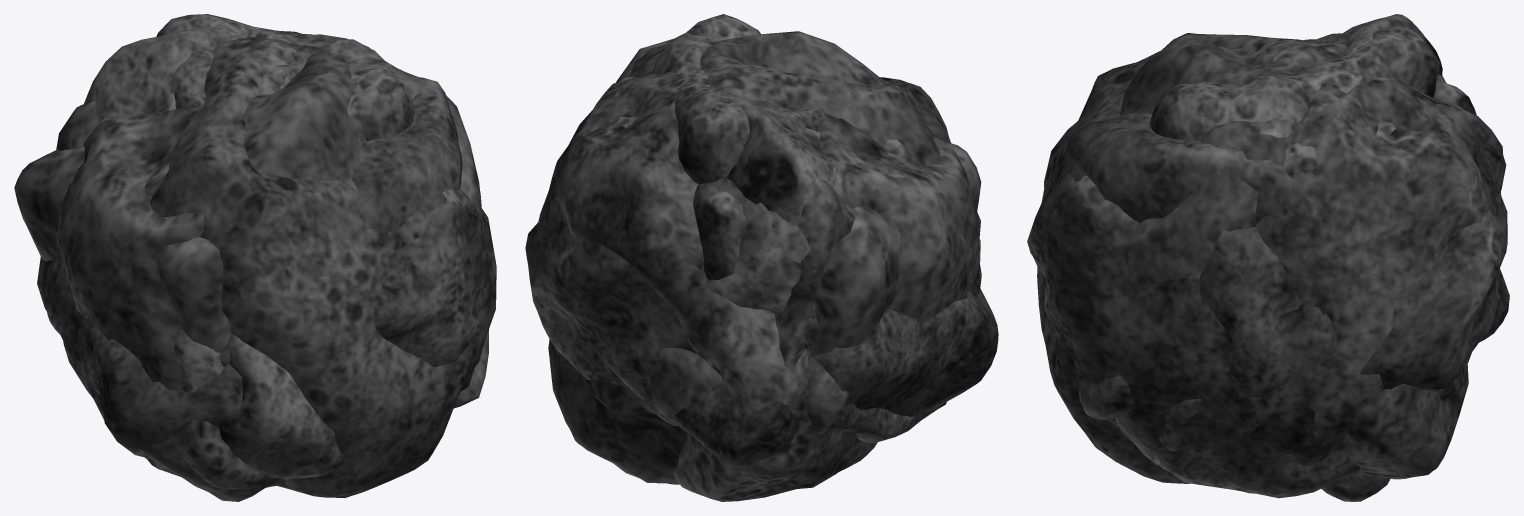
Rendered from asteroids.glb.
3 renders of one model, left to right at view 1: azimuth 30°, elevation 25°; view 2: azimuth 150°, elevation 25°; view 3: azimuth 270°, elevation 25°, orthographic. The views are drawn at different scales.
Parts seen in each view (by area): view 1: Asteroid_no_3_Material #3_0, Asteroid_no_2_Material #3_0, Asteroid_no_8_Material #3_0, Asteroid_no_6_Material #3_0, Asteroid_no_7_Material #3_0, Asteroid_no_10_Material #3_0, Asteroid_no_5_Material #3_0, Asteroid_no_9_Material #3_0, Asteroid_no_4_Material #3_0, Asteroid_no_1_Material #3_0; view 2: Asteroid_no_3_Material #3_0, Asteroid_no_2_Material #3_0, Asteroid_no_8_Material #3_0, Asteroid_no_6_Material #3_0, Asteroid_no_7_Material #3_0, Asteroid_no_4_Material #3_0, Asteroid_no_9_Material #3_0, Asteroid_no_10_Material #3_0, Asteroid_no_1_Material #3_0, Asteroid_no_5_Material #3_0; view 3: Asteroid_no_3_Material #3_0, Asteroid_no_6_Material #3_0, Asteroid_no_2_Material #3_0, Asteroid_no_4_Material #3_0, Asteroid_no_5_Material #3_0, Asteroid_no_9_Material #3_0, Asteroid_no_7_Material #3_0, Asteroid_no_1_Material #3_0, Asteroid_no_8_Material #3_0.
Part boxes in pixels (<box>): Asteroid_no_3_Material #3_0: <box>63,30,472,497</box>; Asteroid_no_2_Material #3_0: <box>57,45,484,390</box>; Asteroid_no_8_Material #3_0: <box>37,47,311,501</box>; Asteroid_no_6_Material #3_0: <box>373,189,496,391</box>; Asteroid_no_7_Material #3_0: <box>56,101,488,480</box>; Asteroid_no_10_Material #3_0: <box>14,146,230,352</box>; Asteroid_no_5_Material #3_0: <box>352,77,462,233</box>; Asteroid_no_9_Material #3_0: <box>156,14,413,141</box>; Asteroid_no_4_Material #3_0: <box>47,26,481,333</box>; Asteroid_no_1_Material #3_0: <box>87,164,285,489</box>; Asteroid_no_3_Material #3_0: <box>538,62,950,501</box>; Asteroid_no_2_Material #3_0: <box>548,31,981,483</box>; Asteroid_no_8_Material #3_0: <box>643,55,998,416</box>; Asteroid_no_6_Material #3_0: <box>525,220,704,389</box>; Asteroid_no_7_Material #3_0: <box>614,76,855,469</box>; Asteroid_no_4_Material #3_0: <box>712,89,848,433</box>; Asteroid_no_9_Material #3_0: <box>652,14,825,484</box>; Asteroid_no_10_Material #3_0: <box>548,142,981,356</box>; Asteroid_no_1_Material #3_0: <box>603,139,980,443</box>; Asteroid_no_5_Material #3_0: <box>583,38,818,433</box>; Asteroid_no_3_Material #3_0: <box>1037,33,1506,483</box>; Asteroid_no_6_Material #3_0: <box>1027,174,1507,466</box>; Asteroid_no_2_Material #3_0: <box>1120,39,1468,479</box>; Asteroid_no_4_Material #3_0: <box>1115,14,1442,498</box>; Asteroid_no_5_Material #3_0: <box>1064,113,1496,450</box>; Asteroid_no_9_Material #3_0: <box>1149,26,1438,501</box>; Asteroid_no_7_Material #3_0: <box>1079,120,1509,419</box>; Asteroid_no_1_Material #3_0: <box>1158,82,1485,451</box>; Asteroid_no_8_Material #3_0: <box>1243,50,1296,137</box>.
Bounding box in the file's own units: 1.75 × 1.78 × 1.8.
Materials: 1 (1 with a texture image).
